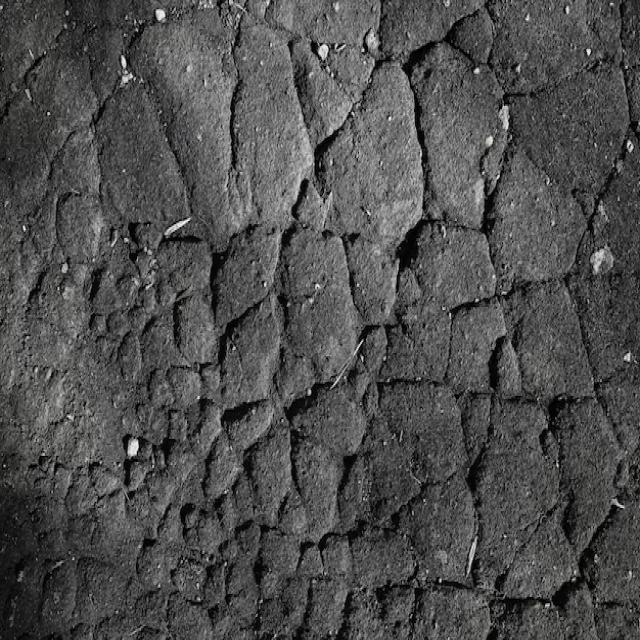Drain Hole: (103, 138, 640, 626)
